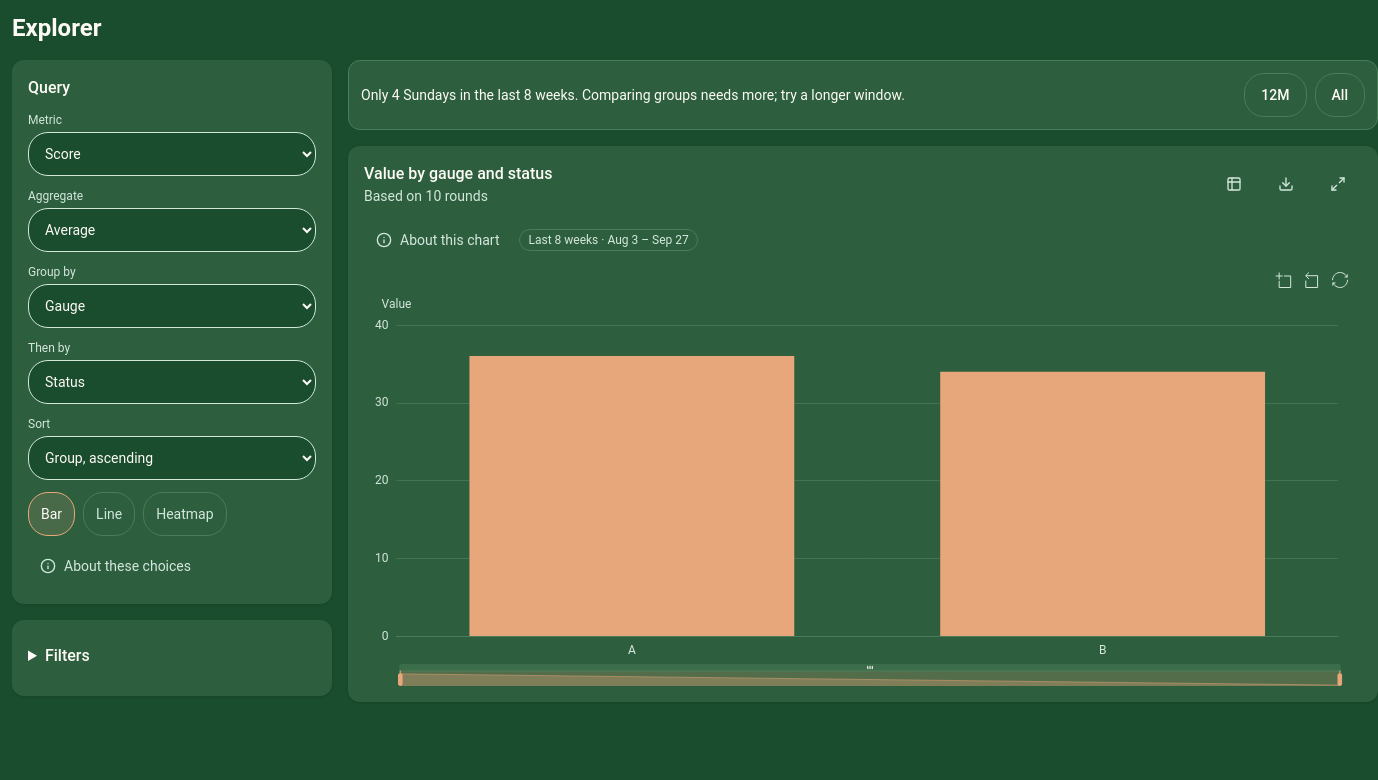
ExplorerPage › never writes a dim twice when Group by takes the Then by choice
This screenshot has width=1378, height=780.
Expected: the picture named "Value by gauge and status" is shown, [364,266,1362,686]
Select "Status" in the dropdown labelled "Group by" at (172, 306), box [28,284,316,328]
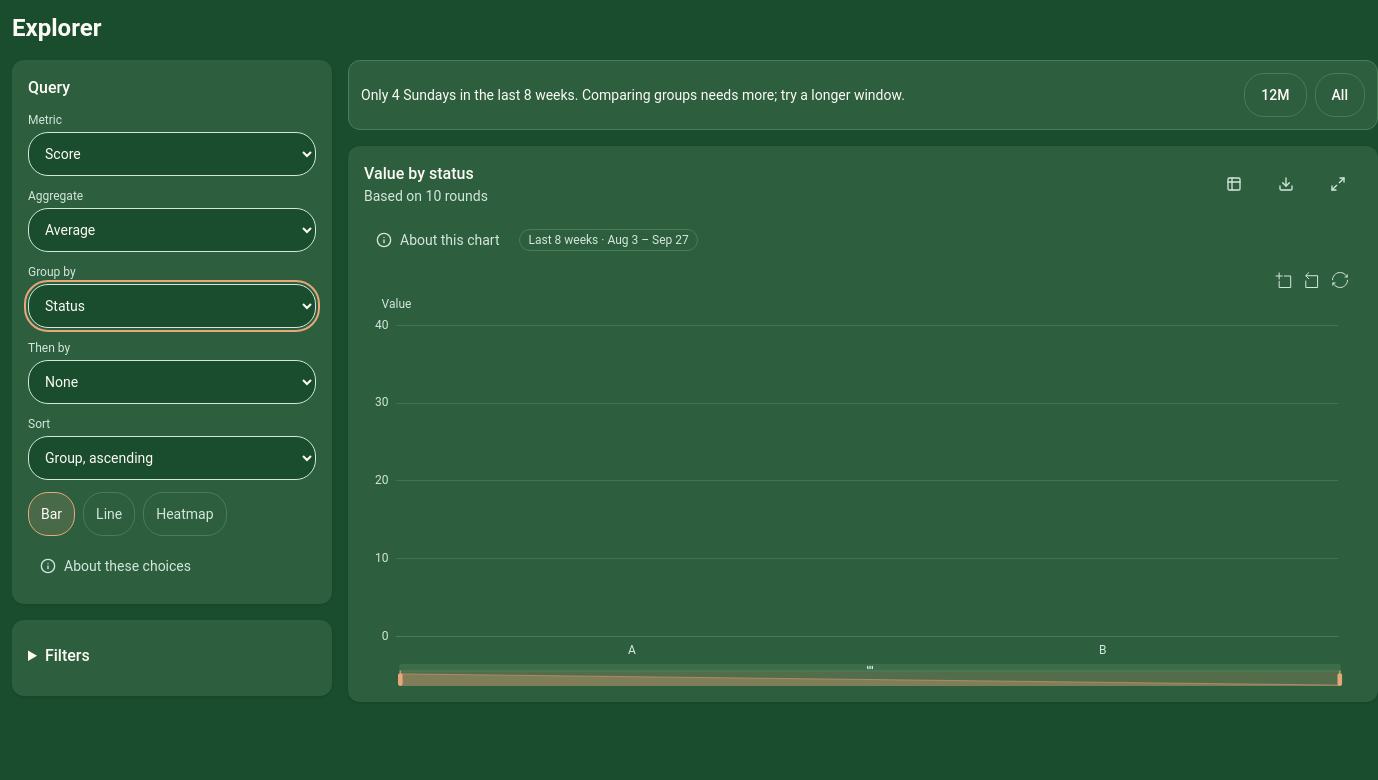
Now the picture named "Value by status" is shown, box [364,266,1362,686]
